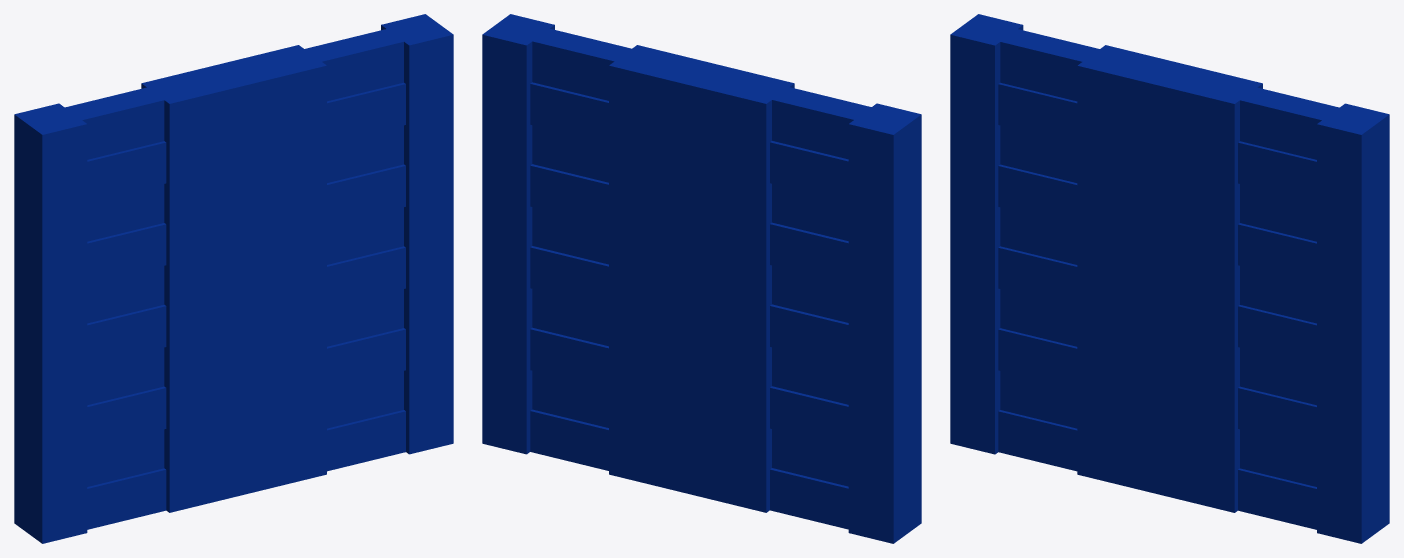
File: GIMM370 Gates Blue.fbx
3 views of the same model, side by side, from view 1: azimuth 30°, elevation 25°; view 2: azimuth 150°, elevation 25°; view 3: azimuth 330°, elevation 25° (orthographic).
Visible parts, largest first — view 1: Cube.002; view 2: Cube.002; view 3: Cube.002.
Boxes of the visible parts, x1,y1,x2,y2 form: Cube.002: (14, 14, 453, 543); Cube.002: (482, 14, 921, 543); Cube.002: (950, 14, 1389, 543).
Size of the model in its own units: 1332 by 1265 by 158.
